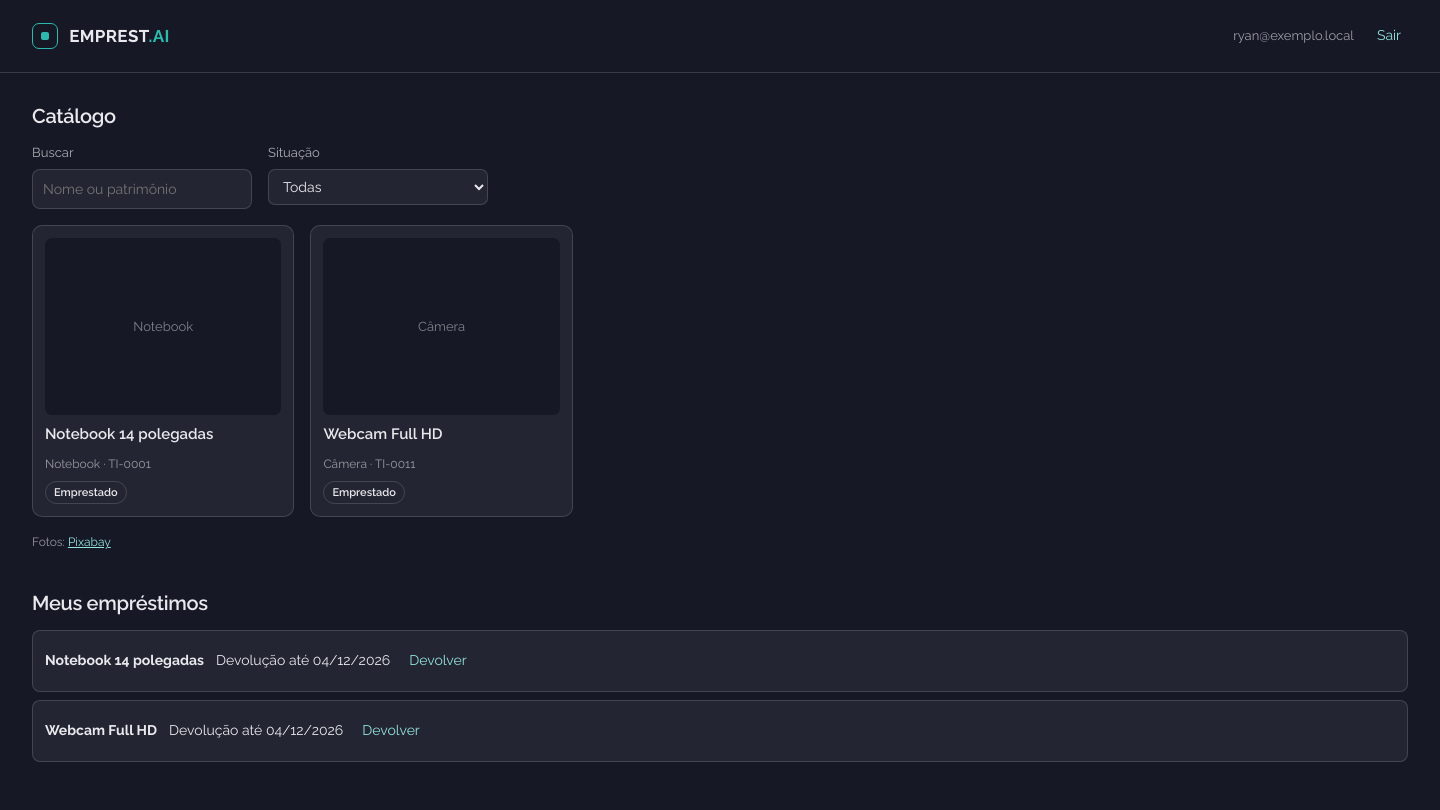
devolver (spec 003 do front) › CA-03: recusa da API aparece no alerta com o motivo, sem reescrita
Click the button with aria-label "Devolver Notebook 14 polegadas" at (438,661), box x1=402 y1=641 x2=474 y2=681
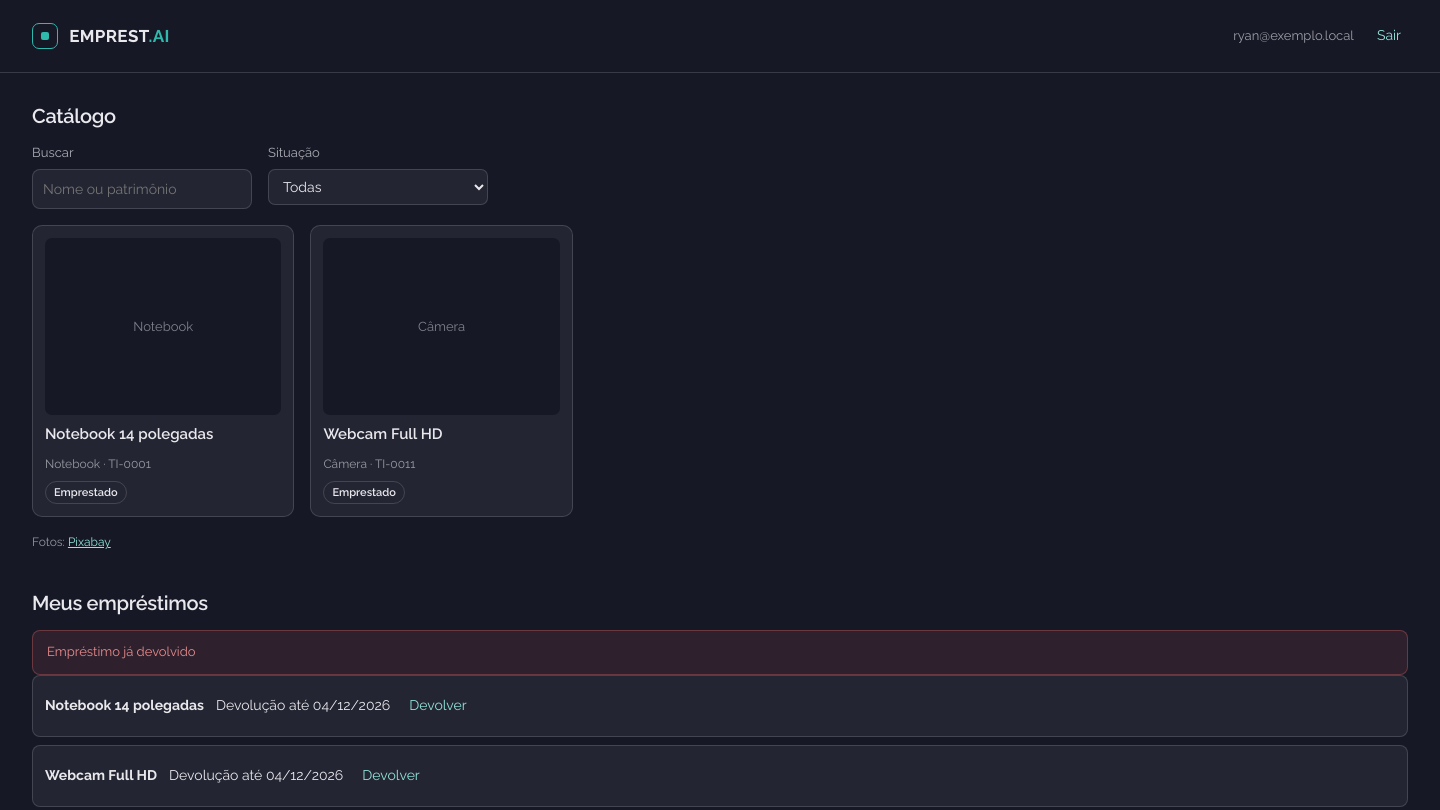
Expected: the message reads "Empréstimo já devolvido", x1=47 y1=644 x2=196 y2=660
